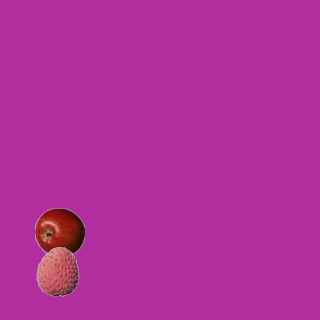Apple Braeburn: (34, 207, 84, 257)
Lychee: (32, 246, 82, 296)
